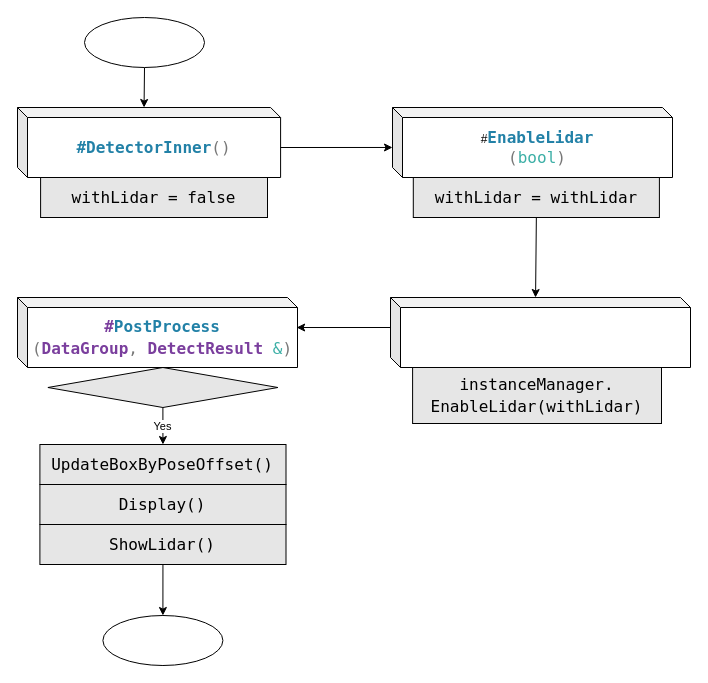
Some shapes in this 708 by 683 pixel diagram are drawn without their labels. The centre of each missing label's shape, as x and y in pixels:
# Init ( psl :: DetectorParam & ): point 540,332
end: point 162,640
start: point 144,42
withLidar: point 162,387
